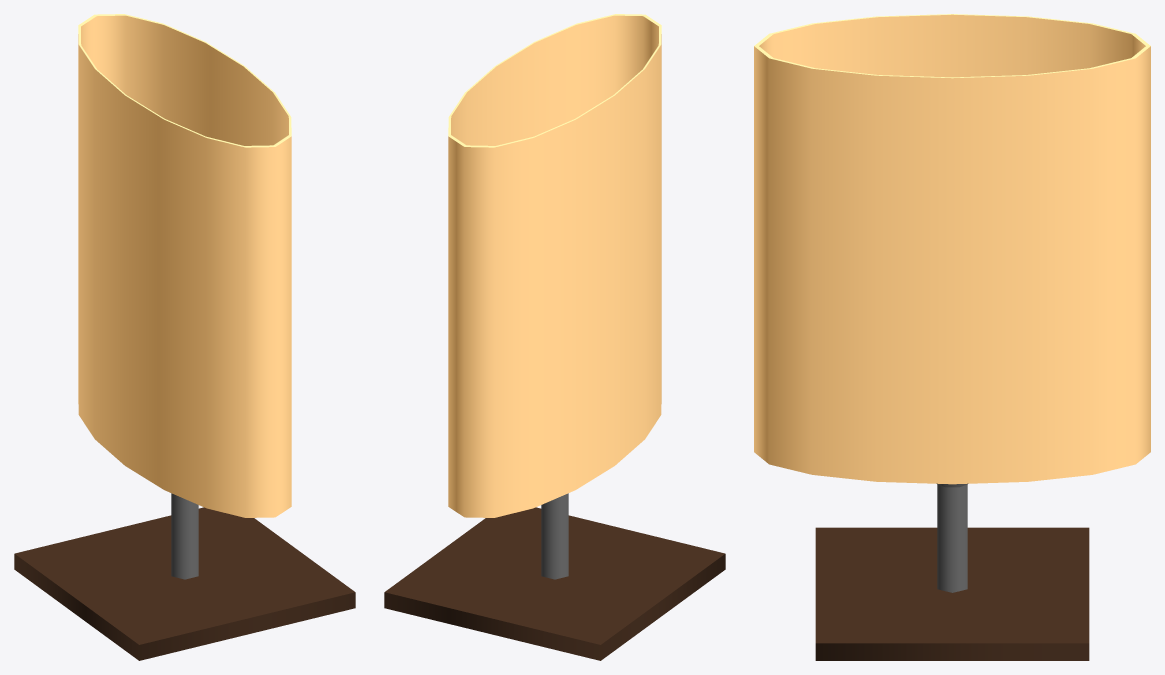
The model's file is Table_Lamp_SquareBase_EllipticalShade.fbx.
3 views of the same model, side by side, from view 1: azimuth 30°, elevation 25°; view 2: azimuth 150°, elevation 25°; view 3: azimuth 270°, elevation 25° (orthographic). The views are drawn at different scales.
Parts seen in each view (by area): view 1: Table_Lamp_SquareBase_EllipticalShade; view 2: Table_Lamp_SquareBase_EllipticalShade; view 3: Table_Lamp_SquareBase_EllipticalShade.
Boxes of the visible parts, x1,y1,x2,y2 form: Table_Lamp_SquareBase_EllipticalShade: (14, 14, 355, 660); Table_Lamp_SquareBase_EllipticalShade: (384, 14, 725, 660); Table_Lamp_SquareBase_EllipticalShade: (754, 14, 1150, 660).
Bounding box in the file's own units: 21.21 × 47.63 × 30.75.
